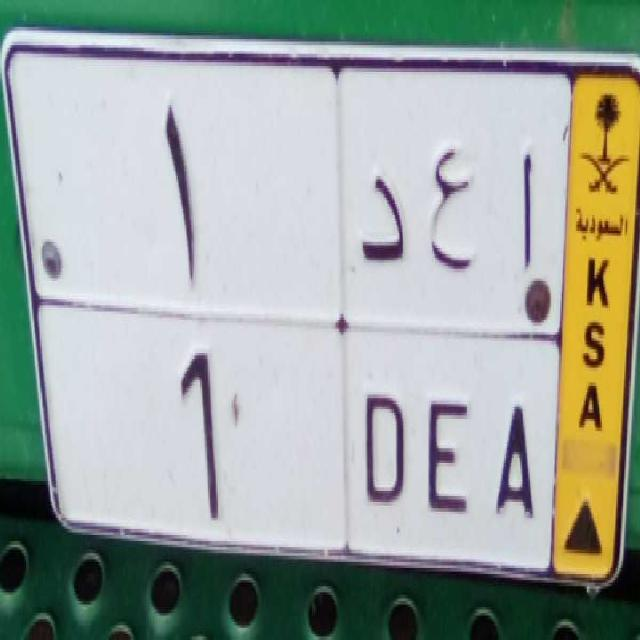license_plate: (34, 301, 554, 570)
